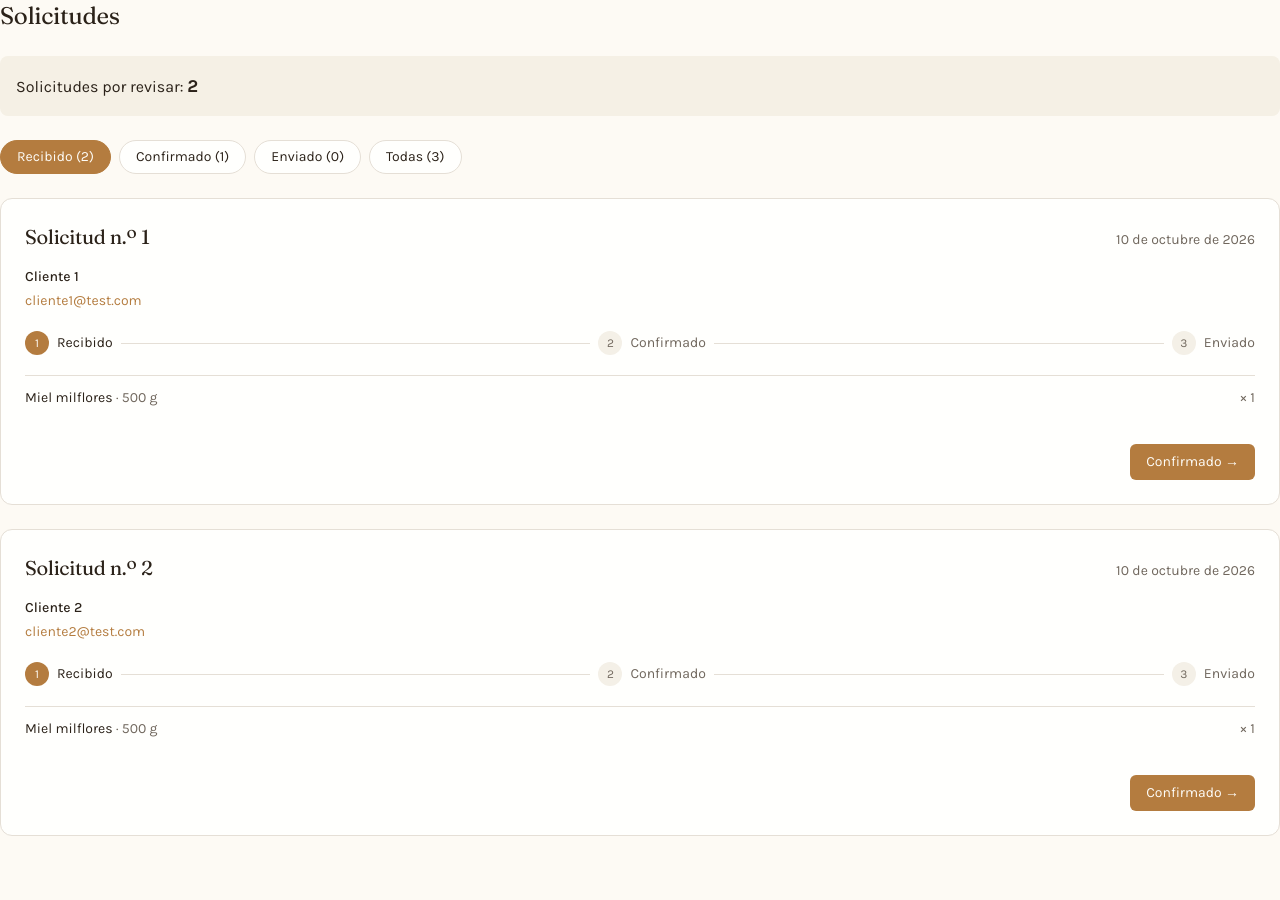
AdminOrdersView › ante un conflicto (409) muestra el aviso y recarga los datos
What coordinates should you click on to do the following:
click the button with aria-label "Marcar la solicitud n.º 1 como Confirmado"
I would click on:
 (1193, 462)
Its box is [1130,444,1255,480].
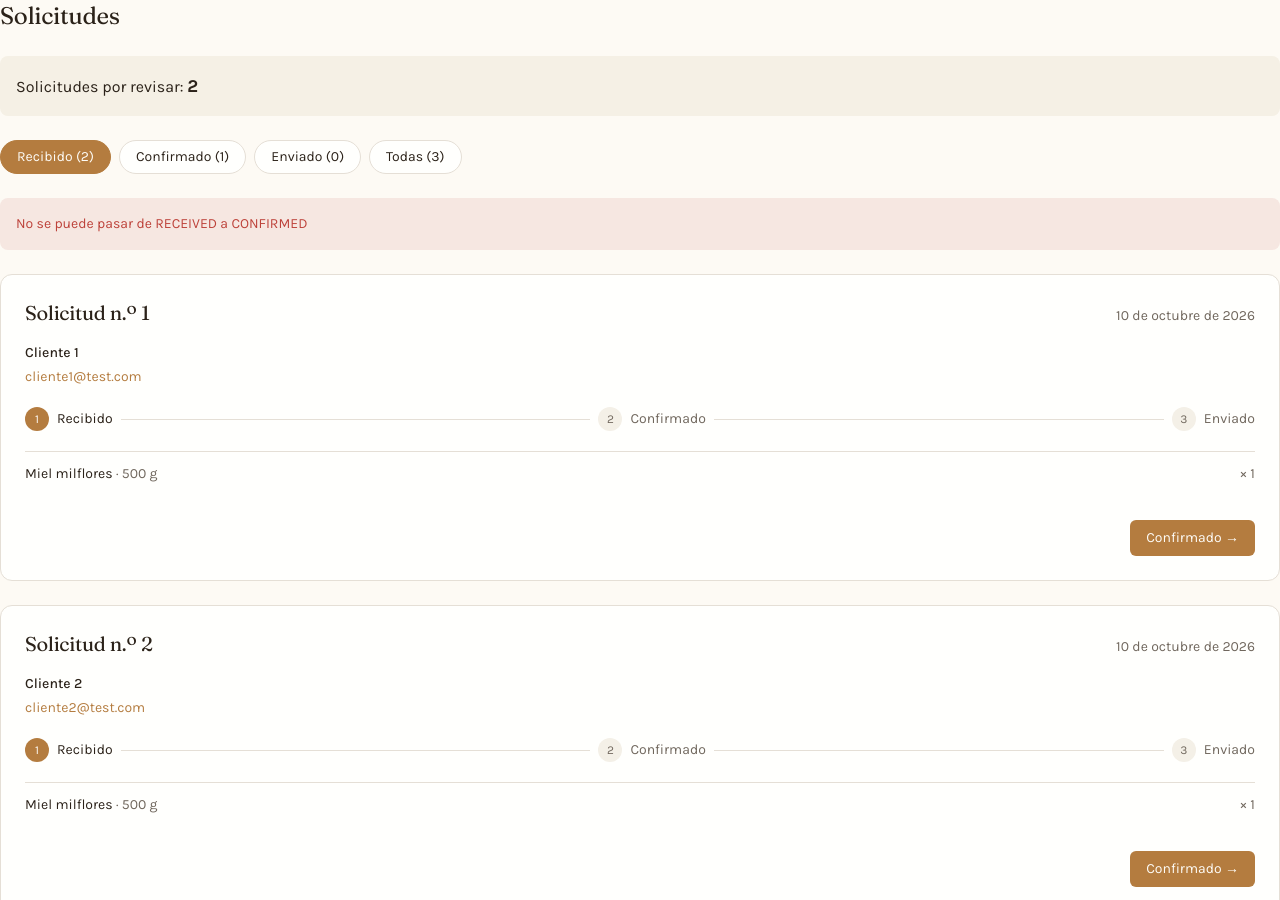
Result: the message "No se puede pasar de RECEIVED a CONFIRMED" is shown at [0,198,1279,250]
